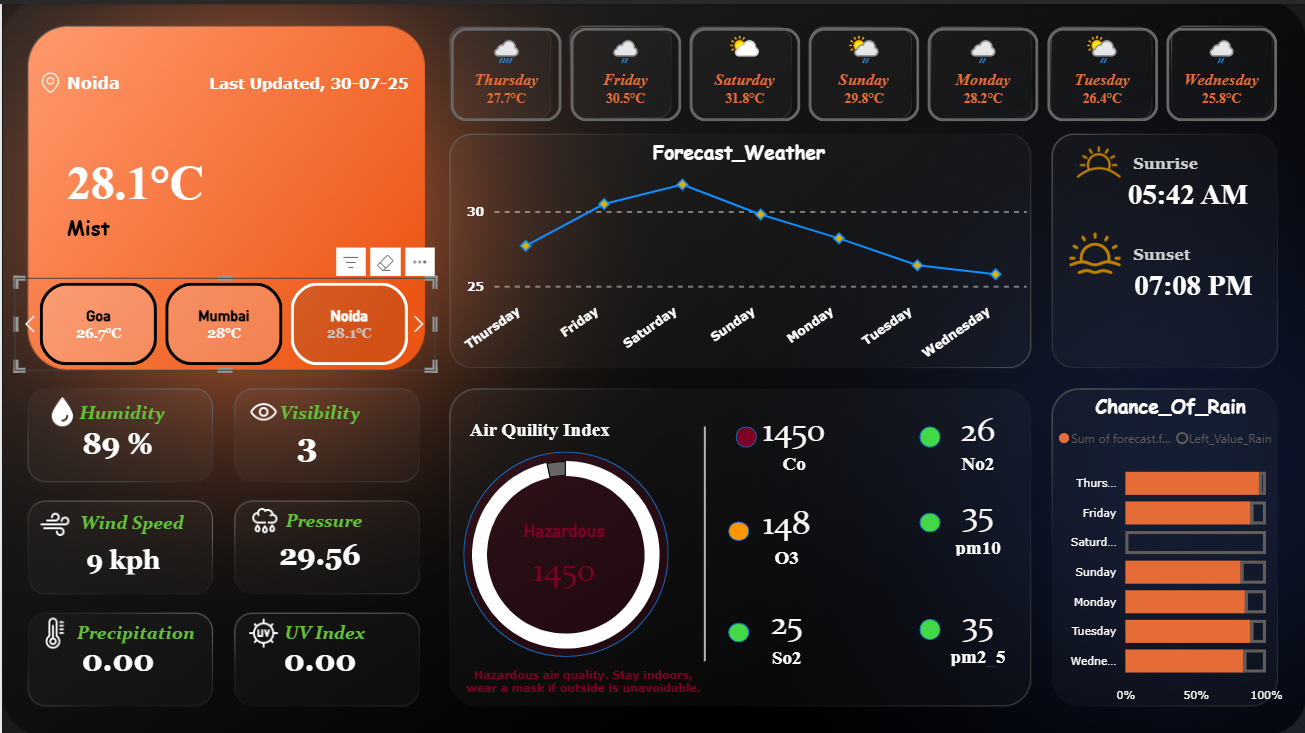

What the dashboard file says about the page in this screenshot:
{"tool":"powerbi","page":{"name":"Page 1","canvas":[1280,720],"ordinal":0},"visuals":[{"type":"shape","box":[452.8,439.1,201.7,201.7],"z":0},{"type":"advancedSlicerVisual","fields":{"Values":["Locations.location.name"]},"box":[12.7,269,412.7,91.5],"z":1000},{"type":"shape","box":[32.4,69,322.5,123.9],"z":2000},{"type":"shape","box":[22.5,69,322.5,149.3],"z":3000},{"type":"shape","box":[63.4,133.8,240.8,84.5],"z":4000},{"type":"shape","box":[63.4,198.6,240.8,39.4],"z":5000},{"type":"shape","box":[63.4,62,109.9,29.6],"z":6000},{"type":"shape","box":[204.2,57.7,204.2,39.4],"z":7000},{"type":"image","box":[32.4,62,31,29.6],"z":8000},{"type":"shape","box":[76.1,385.3,117.8,31.9],"z":9000},{"type":"shape","box":[272.4,385.3,105.5,31.9],"z":10000},{"type":"shape","box":[60.1,495.7,135,27],"z":11000},{"type":"shape","box":[278.5,490.8,117.8,31.9],"z":12000},{"type":"shape","box":[277.3,602.5,117.8,29.4],"z":13000},{"type":"shape","box":[73.3,600.7,152.3,31],"z":14000},{"type":"image","box":[236.8,597.5,40.5,40.5],"z":15000},{"type":"image","box":[39.3,380.4,40.5,40.5],"z":16000},{"type":"image","box":[236.8,380.4,40.5,40.5],"z":17000},{"type":"image","box":[31.9,490.8,40.5,40.5],"z":18000},{"type":"image","box":[238,487.1,40.5,40.5],"z":19000},{"type":"image","box":[27,597.5,50.3,40.5],"z":20000},{"type":"cardVisual","fields":{"Data":["All_Measures.Humidity_Per"]},"box":[57.8,384.9,111.4,87.4],"z":21000},{"type":"cardVisual","fields":{"Data":["Sum(Current_Data.current.vis_km)"]},"box":[244.3,385.6,111.1,86.4],"z":22000},{"type":"cardVisual","fields":{"Data":["All_Measures.Wind_Speed"]},"box":[29.6,510.4,179.1,62],"z":23000},{"type":"cardVisual","fields":{"Data":["Sum(Current_Data.current.pressure_in)"]},"box":[238.3,503.4,148.1,69.1],"z":24000},{"type":"cardVisual","fields":{"Data":["Sum(Current_Data.current.uv)"]},"box":[246.8,606.3,131.1,69.1],"z":25000},{"type":"cardVisual","fields":{"Data":["Sum(Current_Data.current.precip_in)"]},"box":[47.9,603.5,132.5,74.7],"z":26000},{"type":"advancedSlicerVisual","fields":{"Values":["Forcast_Day_Data.Days_Name"]},"box":[435.7,18.3,826.3,102.9],"z":27000},{"type":"lineChart","title":"Forecast_Weather","fields":{"Category":["Forecast_Day_Data.Days_Name"],"Y":["Sum(Forecast_Day_Data.forecast.forecastday.day.avgtemp_c)"]},"box":[435.7,131.4,575.7,228.6],"z":28000},{"type":"shape","box":[1110,135.7,118.6,40],"z":29000},{"type":"shape","box":[1110,225.7,122.9,40],"z":30000},{"type":"cardVisual","fields":{"Data":["Min(Forecast_Day_Data.Sunrise_Date)"]},"box":[1088.6,148.6,185.7,70],"z":31000},{"type":"cardVisual","fields":{"Data":["Min(Forecast_Day_Data.Sunset_Date)"]},"box":[1094.3,238.6,175.7,70],"z":32000},{"type":"image","box":[1042.9,121.4,67,67],"z":33000},{"type":"image","box":[1042.9,214.3,60,60],"z":34000},{"type":"hundredPercentStackedBarChart","title":"Chance_Of_Rain","fields":{"Category":["Forecast_Day_Data.Days_Name"],"Y":["Sum(Forecast_Day_Data.forecast.forecastday.day.daily_chance_of_rain)","All_Measures.Left_Value_Rain"]},"box":[1031.4,380,230,314.3],"z":35000},{"type":"shape","box":[720.6,415,20.7,20.7],"z":36000},{"type":"shape","box":[713.2,508,20.7,19.2],"z":37000},{"type":"shape","box":[713.2,606.9,20.7,19.2],"z":38000},{"type":"shape","box":[900.8,415,20.7,20.7],"z":39000},{"type":"shape","box":[900.8,499.1,20.7,19.2],"z":40000},{"type":"shape","box":[900.8,604,20.7,20.7],"z":41000},{"type":"shape","box":[458.6,397.1,151.4,40],"z":42000},{"type":"shape","box":[658.6,415,62,230.4],"z":43000},{"type":"card","fields":{"Values":["Sum(Current_Data.current.air_quality.co)"]},"box":[720.6,388.4,115.2,75.3],"z":44000},{"type":"card","fields":{"Values":["Sum(Current_Data.current.air_quality.o3)"]},"box":[713.2,481.4,115.2,75.3],"z":45000},{"type":"card","fields":{"Values":["Sum(Current_Data.current.air_quality.so2)"]},"box":[713.2,578.9,115.2,75.3],"z":46000},{"type":"card","fields":{"Values":["Sum(Current_Data.current.air_quality.no2)"]},"box":[900.8,388.4,115.2,75.3],"z":47000},{"type":"card","fields":{"Values":["Sum(Current_Data.current.air_quality.pm10)"]},"box":[900.8,471.1,115.2,75.3],"z":48000},{"type":"card","fields":{"Values":["Sum(Current_Data.current.air_quality.pm2_5)"]},"box":[900.8,577.4,115.2,76.8],"z":49000},{"type":"shape","box":[451.1,645.5,238.4,39.5],"z":50000},{"type":"card","fields":{"Values":["Sum(Current_Data.current.air_quality.co)"]},"box":[494,506.3,115.3,75.5],"z":51000},{"type":"donutChart","fields":{"Y":["Sum(Current_Data.current.air_quality.co)","All_Measures.Left_Value_Co"]},"box":[382.8,421.3,341.7,240.1],"z":52000}]}

Visuals, with their boxes on the page's 1280x720 design canvas (x1, y1, x2, y2). These are canvas units, not pixel positions in the 1305x733 screenshot, which may show the page scaled, cropped or inside an application window:
shape: [453, 439, 654, 641]
advancedSlicerVisual - Locations.location.name: [13, 269, 425, 360]
shape: [32, 69, 355, 193]
shape: [22, 69, 345, 218]
shape: [63, 134, 304, 218]
shape: [63, 199, 304, 238]
shape: [63, 62, 173, 92]
shape: [204, 58, 408, 97]
image: [32, 62, 63, 92]
shape: [76, 385, 194, 417]
shape: [272, 385, 378, 417]
shape: [60, 496, 195, 523]
shape: [278, 491, 396, 523]
shape: [277, 602, 395, 632]
shape: [73, 601, 226, 632]
image: [237, 598, 277, 638]
image: [39, 380, 80, 421]
image: [237, 380, 277, 421]
image: [32, 491, 72, 531]
image: [238, 487, 278, 528]
image: [27, 598, 77, 638]
cardVisual - All_Measures.Humidity_Per: [58, 385, 169, 472]
cardVisual - Sum(Current_Data.current.vis_km): [244, 386, 355, 472]
cardVisual - All_Measures.Wind_Speed: [30, 510, 209, 572]
cardVisual - Sum(Current_Data.current.pressure_in): [238, 503, 386, 572]
cardVisual - Sum(Current_Data.current.uv): [247, 606, 378, 675]
cardVisual - Sum(Current_Data.current.precip_in): [48, 604, 180, 678]
advancedSlicerVisual - Forcast_Day_Data.Days_Name: [436, 18, 1262, 121]
"Forecast_Weather" lineChart: [436, 131, 1011, 360]
shape: [1110, 136, 1229, 176]
shape: [1110, 226, 1233, 266]
cardVisual - Min(Forecast_Day_Data.Sunrise_Date): [1089, 149, 1274, 219]
cardVisual - Min(Forecast_Day_Data.Sunset_Date): [1094, 239, 1270, 309]
image: [1043, 121, 1110, 188]
image: [1043, 214, 1103, 274]
"Chance_Of_Rain" hundredPercentStackedBarChart: [1031, 380, 1261, 694]
shape: [721, 415, 741, 436]
shape: [713, 508, 734, 527]
shape: [713, 607, 734, 626]
shape: [901, 415, 922, 436]
shape: [901, 499, 922, 518]
shape: [901, 604, 922, 625]
shape: [459, 397, 610, 437]
shape: [659, 415, 721, 645]
card - Sum(Current_Data.current.air_quality.co): [721, 388, 836, 464]
card - Sum(Current_Data.current.air_quality.o3): [713, 481, 828, 557]
card - Sum(Current_Data.current.air_quality.so2): [713, 579, 828, 654]
card - Sum(Current_Data.current.air_quality.no2): [901, 388, 1016, 464]
card - Sum(Current_Data.current.air_quality.pm10): [901, 471, 1016, 546]
card - Sum(Current_Data.current.air_quality.pm2_5): [901, 577, 1016, 654]
shape: [451, 646, 690, 685]
card - Sum(Current_Data.current.air_quality.co): [494, 506, 609, 582]
donutChart - Sum(Current_Data.current.air_quality.co) x All_Measures.Left_Value_Co: [383, 421, 724, 661]
